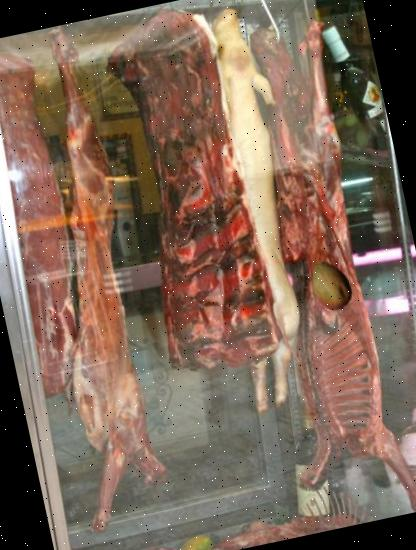Papaya: (299, 255, 362, 318)
